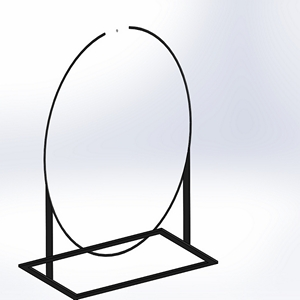circle: (16, 25, 218, 300)
